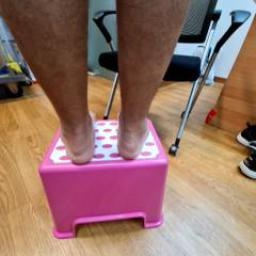Back View -Both Feet-: (32, 80, 171, 166)
